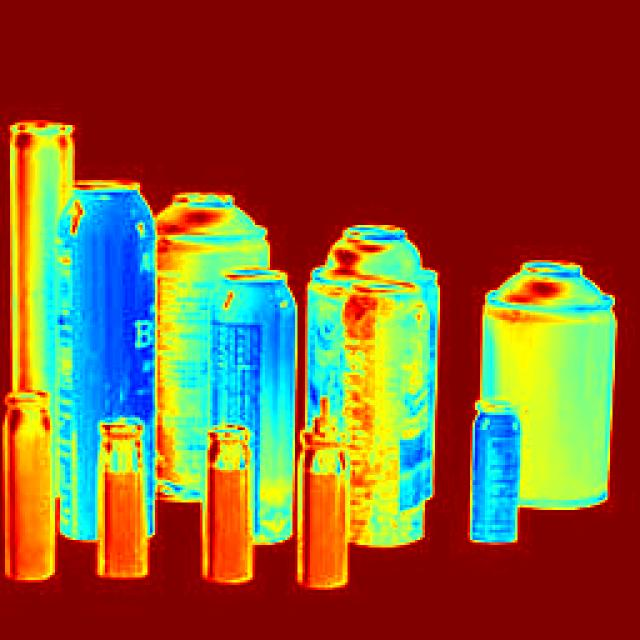Aerosol Cans: (316, 216, 438, 569), (471, 246, 615, 538), (55, 168, 163, 557), (162, 168, 266, 540), (211, 242, 290, 548)
